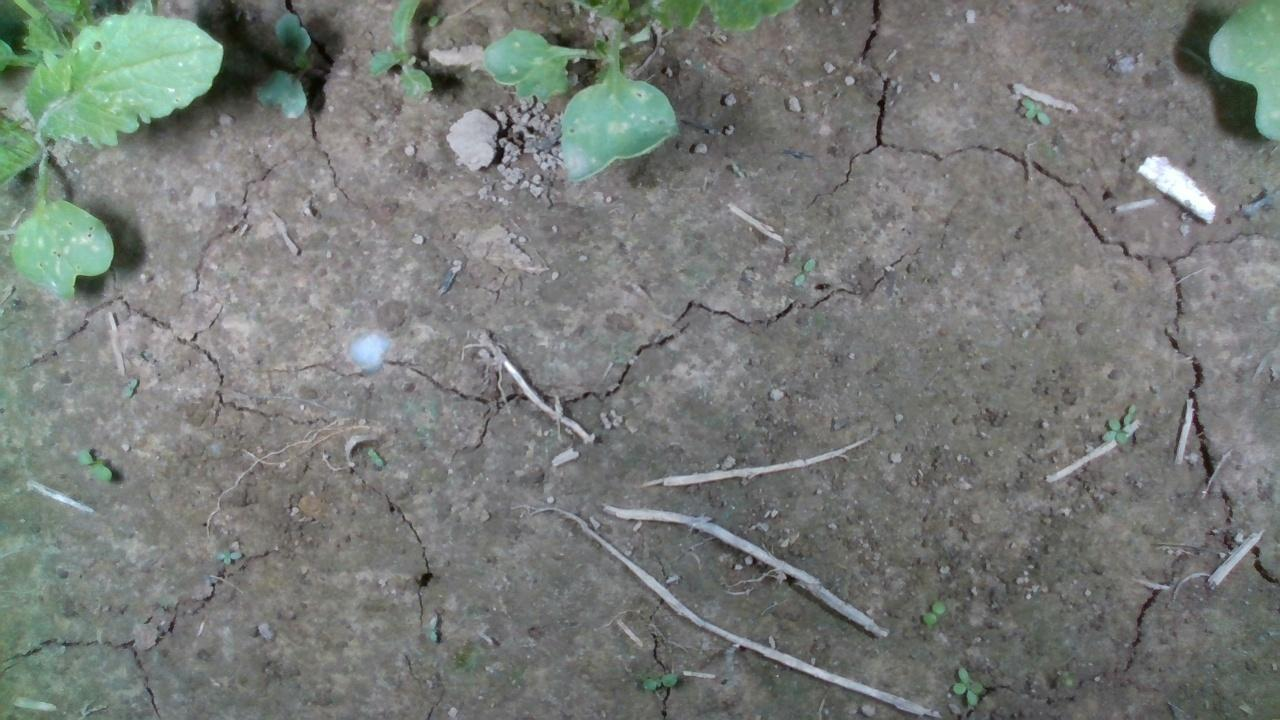weed: (948, 665, 984, 706), (75, 448, 112, 481), (1017, 95, 1050, 125), (640, 670, 678, 692), (791, 255, 815, 286), (921, 597, 946, 624), (211, 545, 241, 565)
